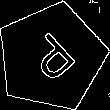P_SE: (20, 25, 82, 88)
